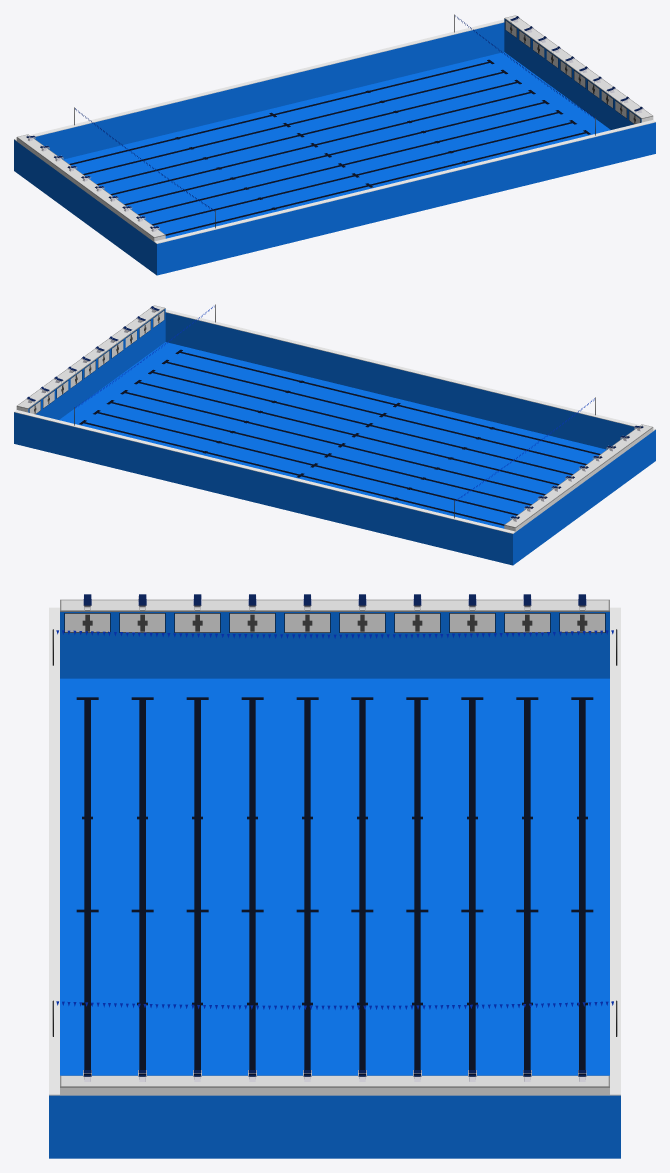
The model's file is Piscina_Olimpica.dae.
3 renders of one model, top to bottom at view 1: azimuth 30°, elevation 25°; view 2: azimuth 150°, elevation 25°; view 3: azimuth 270°, elevation 25°, orthographic. The views are drawn at different scales.
Visible parts, largest first — view 1: Piscina, Lineas_Fondo_Piscina, Borde_Piscina, Sensores, Cube.003, Cube.006, Trampolin, Banderines, Cube.004, Cube.005; view 2: Piscina, Lineas_Fondo_Piscina, Borde_Piscina, Sensores, Cube.003, Cube.006, Trampolin, Banderines, Cube.004, Cube.005; view 3: Piscina, Lineas_Fondo_Piscina, Borde_Piscina, Sensores, Cube.006, Cube.003, Banderines, Trampolin, Cube.004, Cube.005.
Boxes of the visible parts, <box> form: Piscina: <box>14,19,655,275</box>; Lineas_Fondo_Piscina: <box>69,59,590,235</box>; Borde_Piscina: <box>14,19,655,243</box>; Sensores: <box>505,20,640,124</box>; Cube.003: <box>18,134,164,236</box>; Cube.006: <box>505,15,651,117</box>; Trampolin: <box>26,16,643,231</box>; Banderines: <box>74,14,595,228</box>; Cube.004: <box>16,134,165,237</box>; Cube.005: <box>504,15,652,118</box>; Piscina: <box>14,309,655,565</box>; Lineas_Fondo_Piscina: <box>79,349,600,525</box>; Borde_Piscina: <box>14,309,655,533</box>; Sensores: <box>29,310,164,414</box>; Cube.003: <box>505,424,651,526</box>; Cube.006: <box>18,305,164,407</box>; Trampolin: <box>26,306,643,521</box>; Banderines: <box>74,304,595,518</box>; Cube.004: <box>504,424,653,527</box>; Cube.005: <box>17,305,165,408</box>; Piscina: <box>49,612,620,1158</box>; Lineas_Fondo_Piscina: <box>76,697,593,1069</box>; Borde_Piscina: <box>49,607,620,1095</box>; Sensores: <box>64,613,605,632</box>; Cube.006: <box>61,1076,608,1086</box>; Cube.003: <box>61,600,608,610</box>; Banderines: <box>52,629,617,1036</box>; Trampolin: <box>83,594,586,1081</box>; Cube.004: <box>60,599,609,611</box>; Cube.005: <box>60,1075,609,1087</box>.
Size of the model in its own units: 52.4 by 26 by 5.01.
